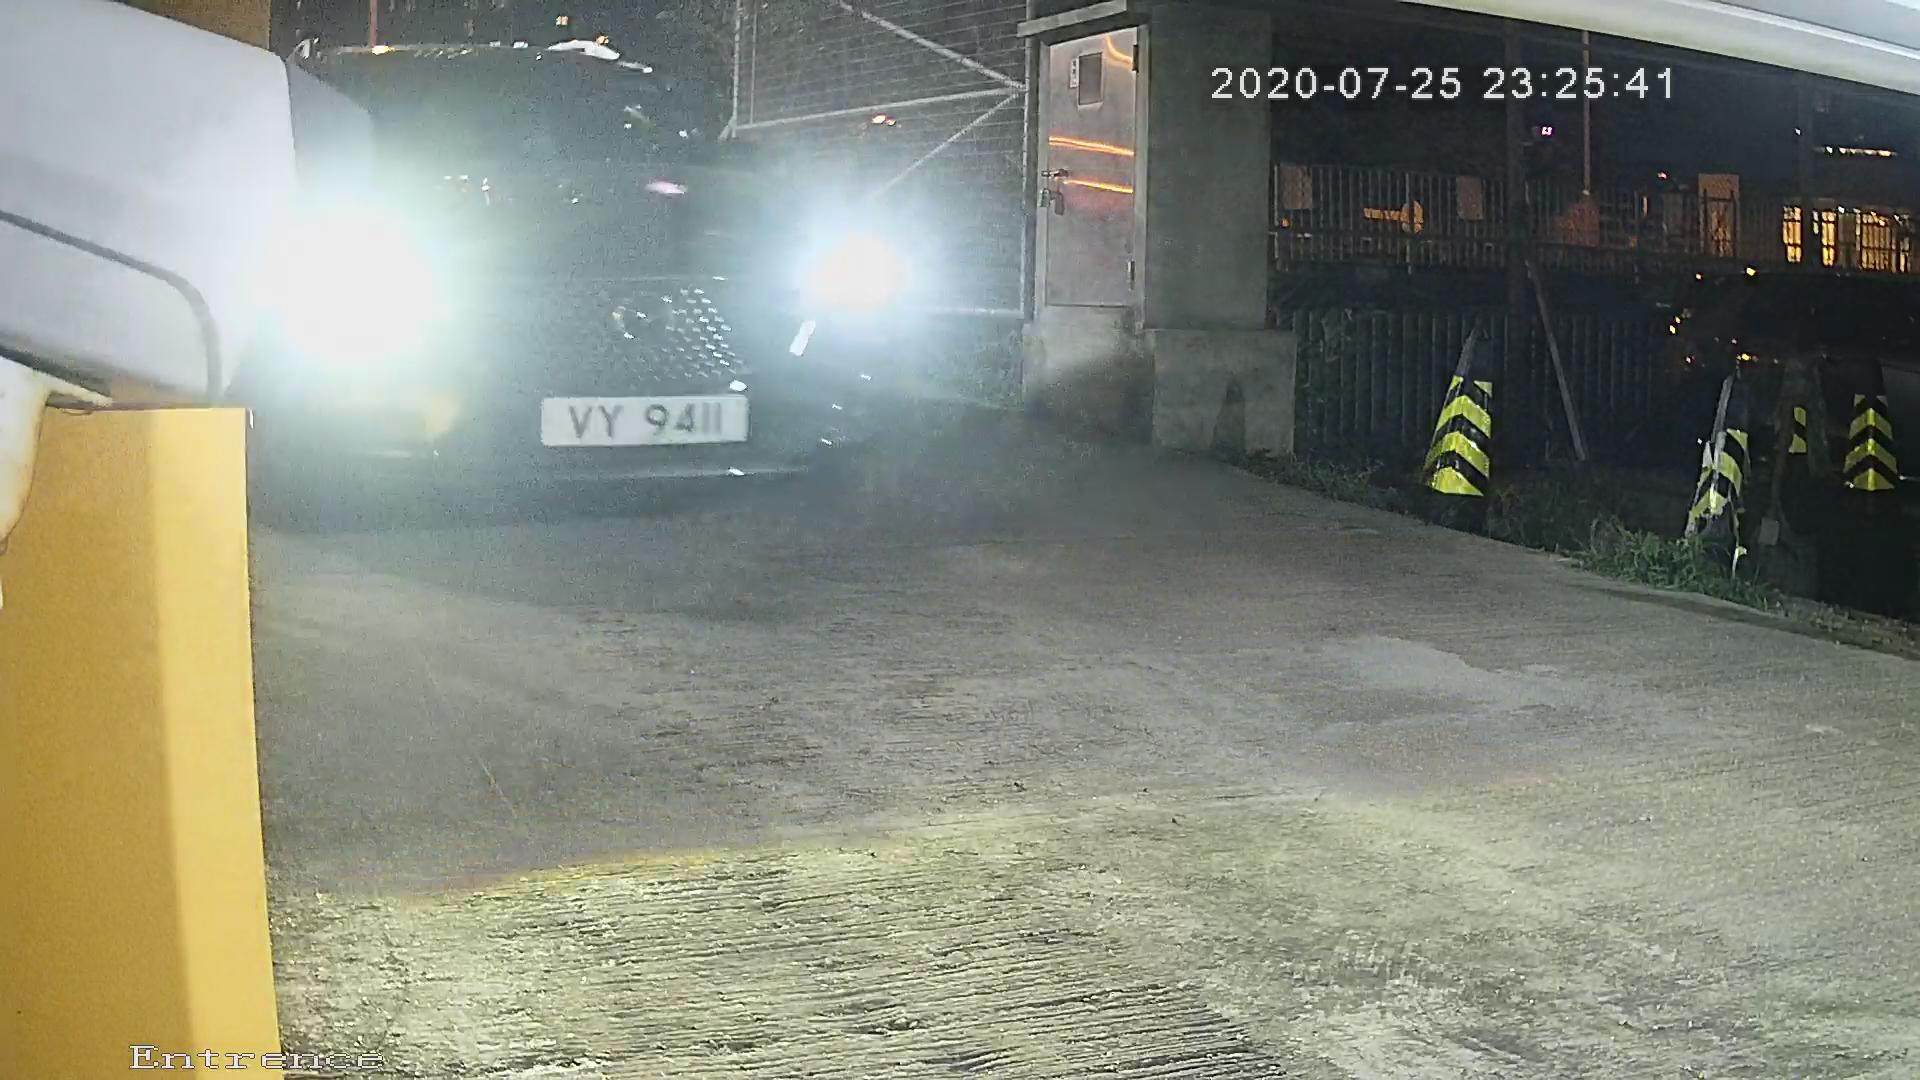License Plate: (497, 375, 771, 471)
